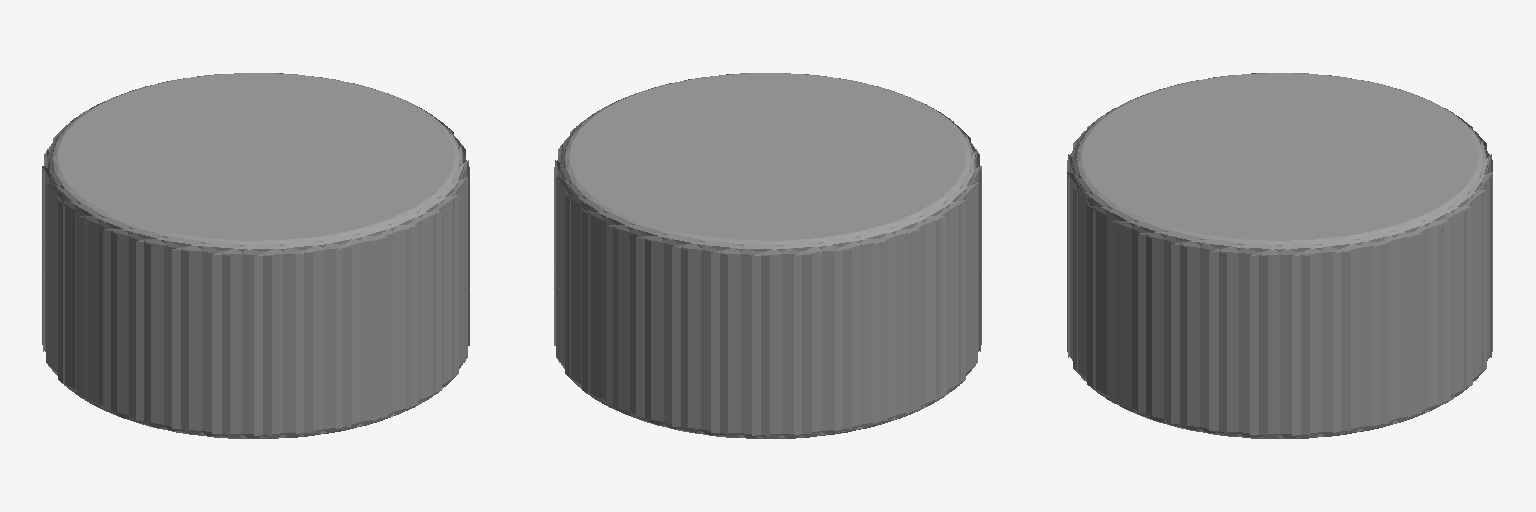
File: waste_processing.obj
The picture shows the model from 3 angles: view 1: azimuth 30°, elevation 25°; view 2: azimuth 150°, elevation 25°; view 3: azimuth 270°, elevation 25°; orthographic projection.
Parts seen in each view (by area): view 1: Cylinder, Cylinder.001; view 2: Cylinder, Cylinder.001; view 3: Cylinder, Cylinder.001.
Part boxes in pixels (left/top/right/bottom): Cylinder: left=42, top=73, right=469, bottom=438; Cylinder.001: left=47, top=108, right=467, bottom=437; Cylinder: left=554, top=73, right=981, bottom=438; Cylinder.001: left=556, top=108, right=976, bottom=437; Cylinder: left=1067, top=73, right=1492, bottom=438; Cylinder.001: left=1072, top=111, right=1487, bottom=437.
Size of the model in its own units: 6.15 by 3.15 by 6.15.